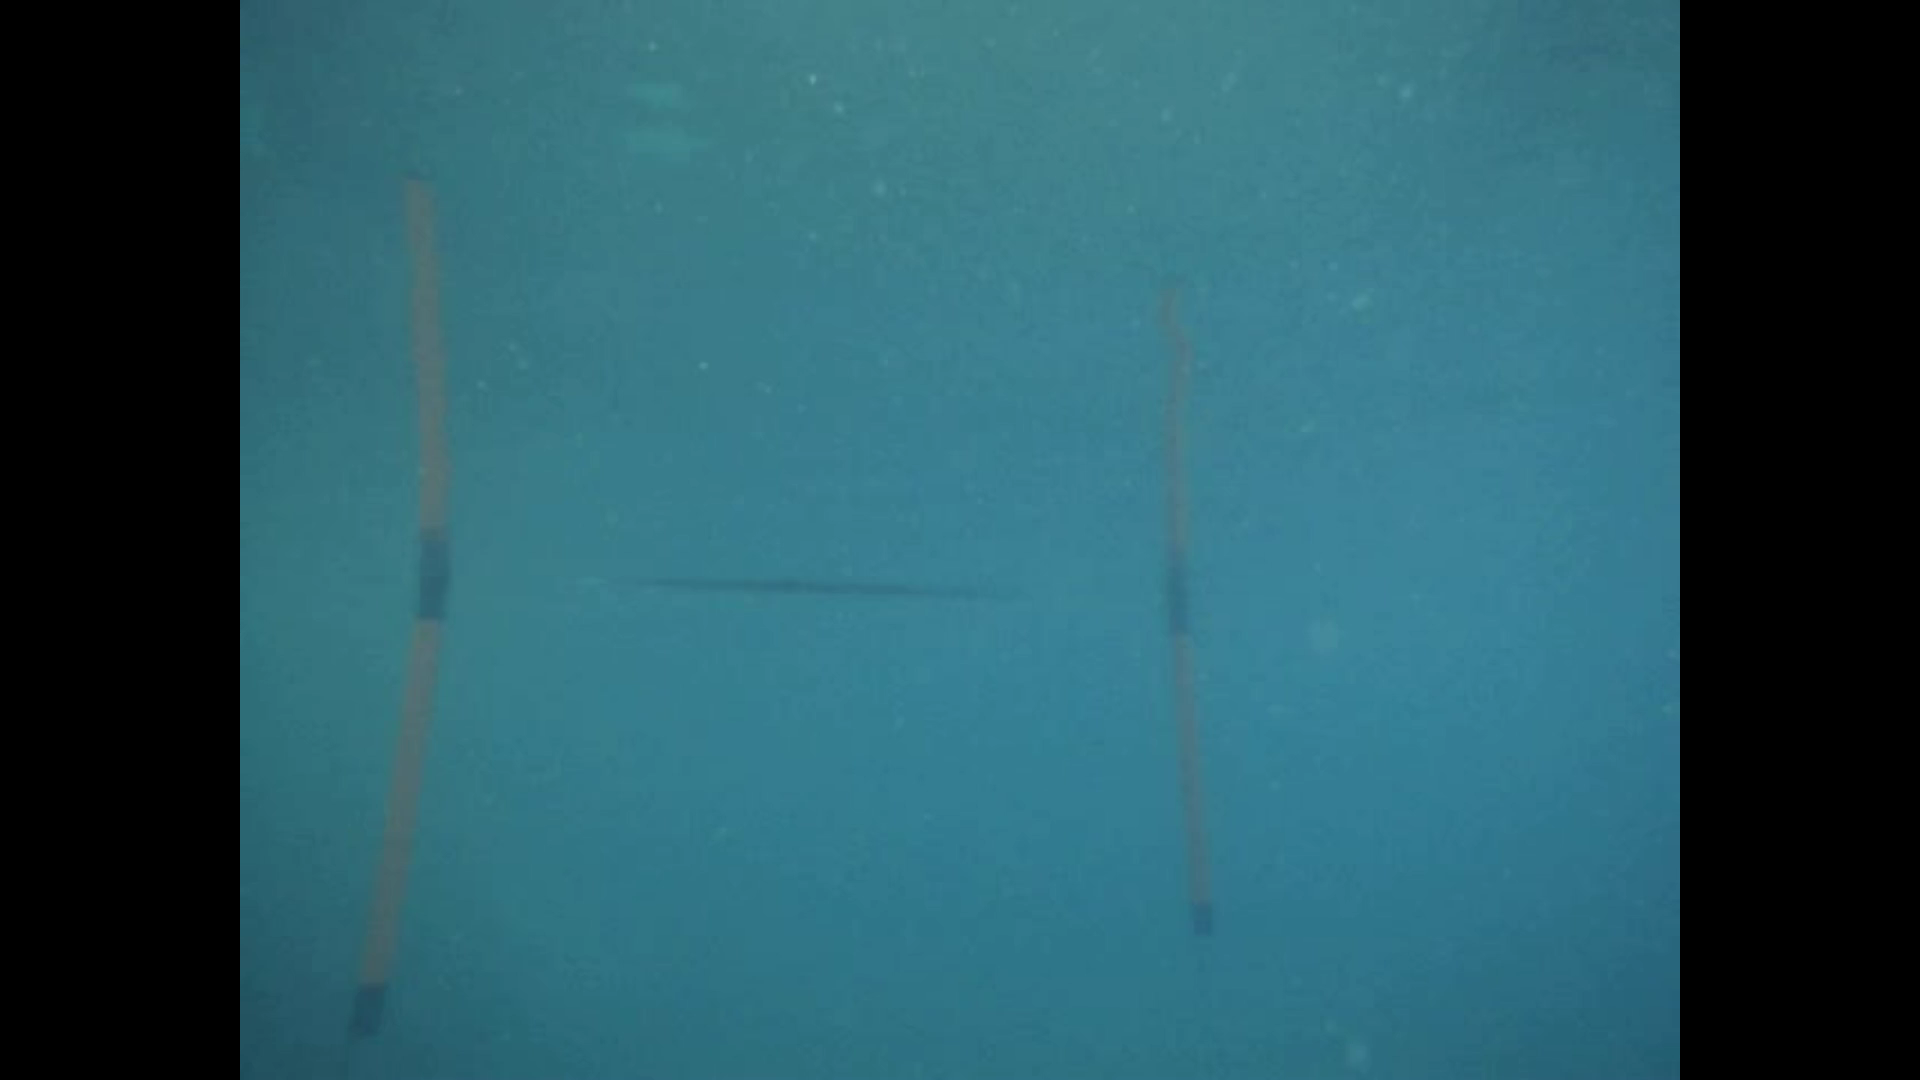gate: (343, 578, 1221, 1051)
